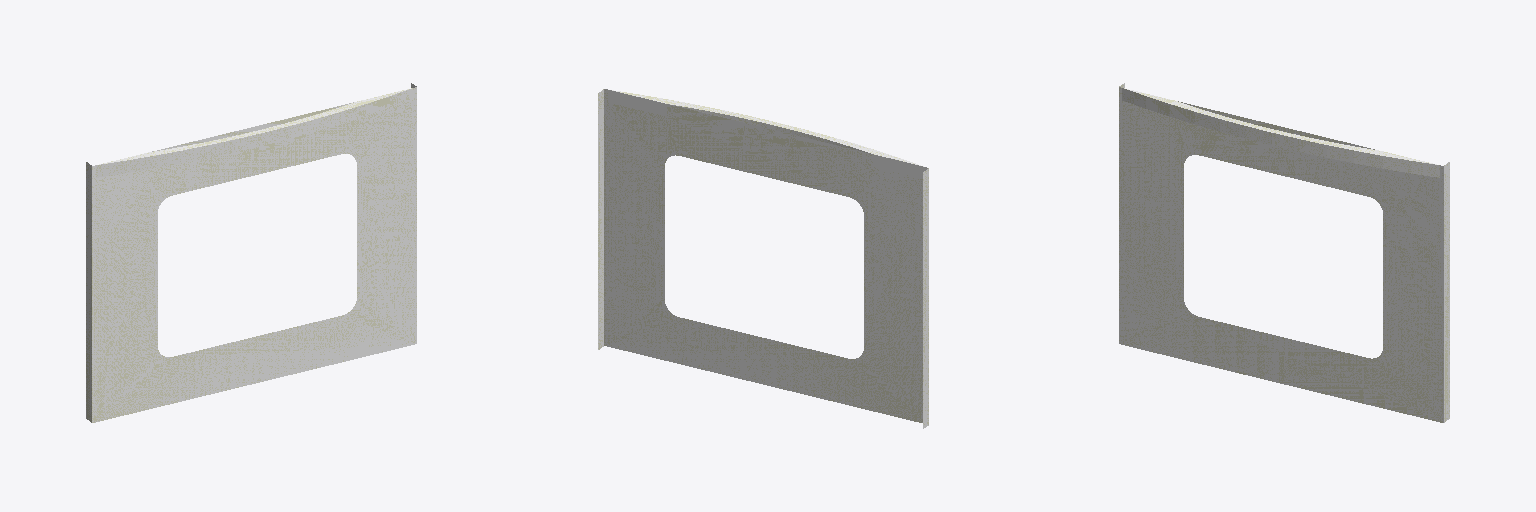
Rendered from original-43.obj.
3 renders of one model, left to right at view 1: azimuth 30°, elevation 25°; view 2: azimuth 150°, elevation 25°; view 3: azimuth 330°, elevation 25°, orthographic.
Parts seen in each view (by area): view 1: mesh16/mesh16-geometry/material_1/component_1#mesh16-geometry; view 2: mesh16/mesh16-geometry/material_1/component_1#mesh16-geometry; view 3: mesh16/mesh16-geometry/material_1/component_1#mesh16-geometry.
Part boxes in pixels (left/top/right/bottom): mesh16/mesh16-geometry/material_1/component_1#mesh16-geometry: left=86, top=83, right=416, bottom=422; mesh16/mesh16-geometry/material_1/component_1#mesh16-geometry: left=598, top=89, right=928, bottom=428; mesh16/mesh16-geometry/material_1/component_1#mesh16-geometry: left=1119, top=83, right=1449, bottom=422.
Bounding box in the file's own units: 0.9331 × 0.7064 × 0.0736.